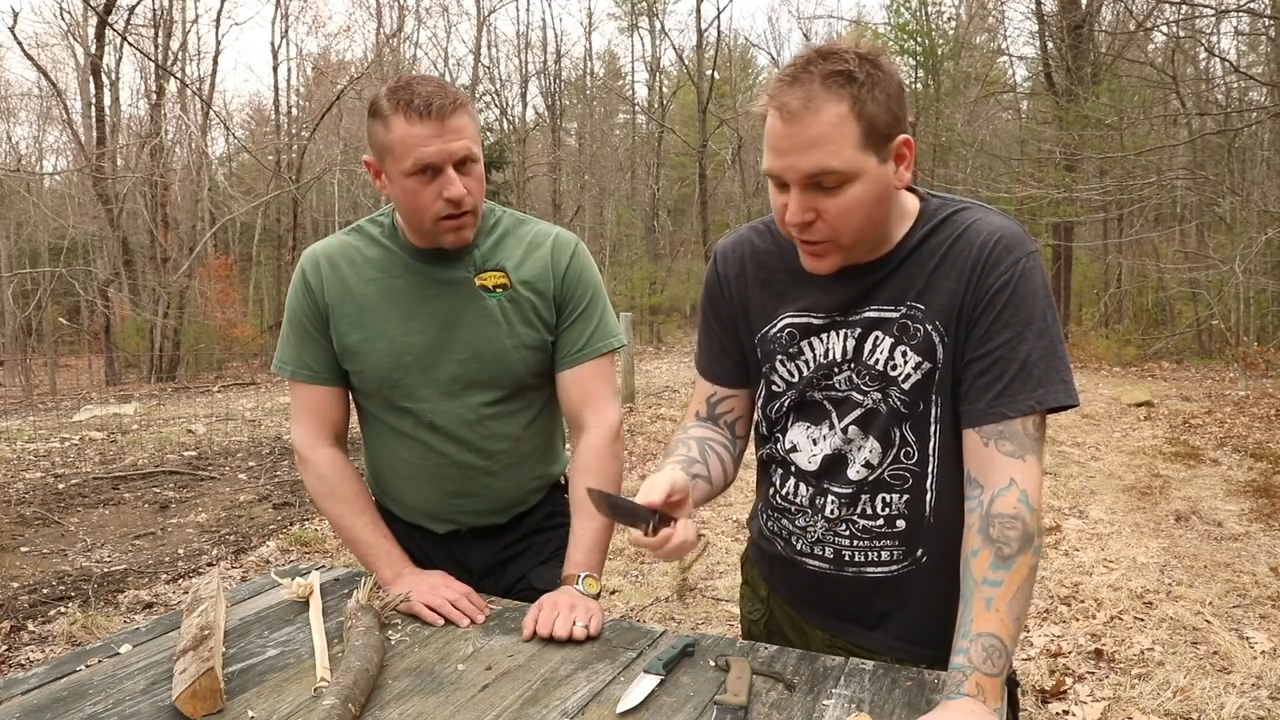knife: (572, 474, 705, 566)
